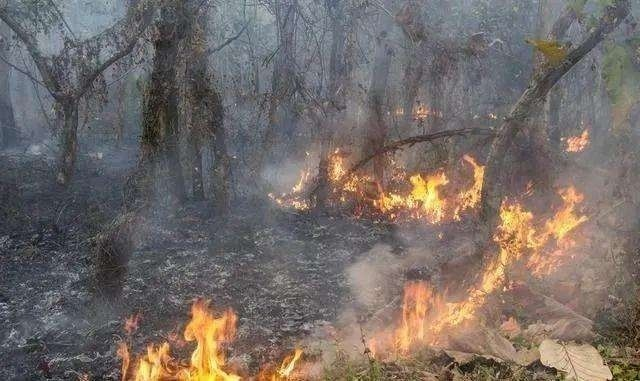fire: (277, 131, 593, 359), (113, 297, 315, 381)
